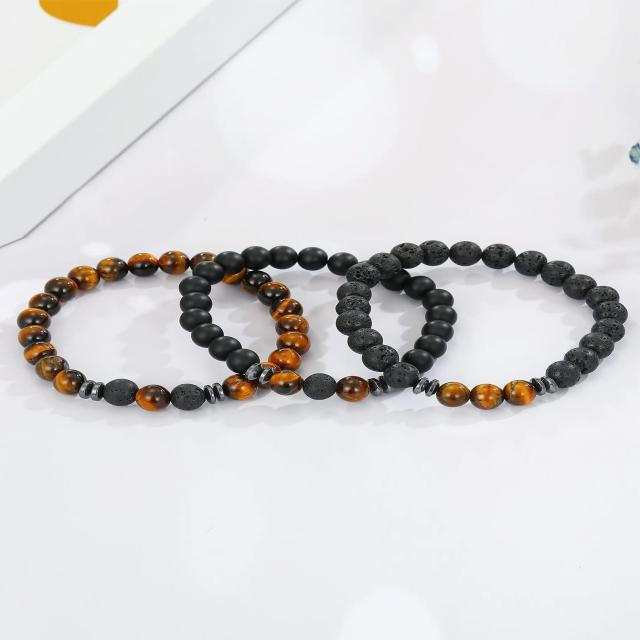bracelet: (0, 146, 640, 469)
